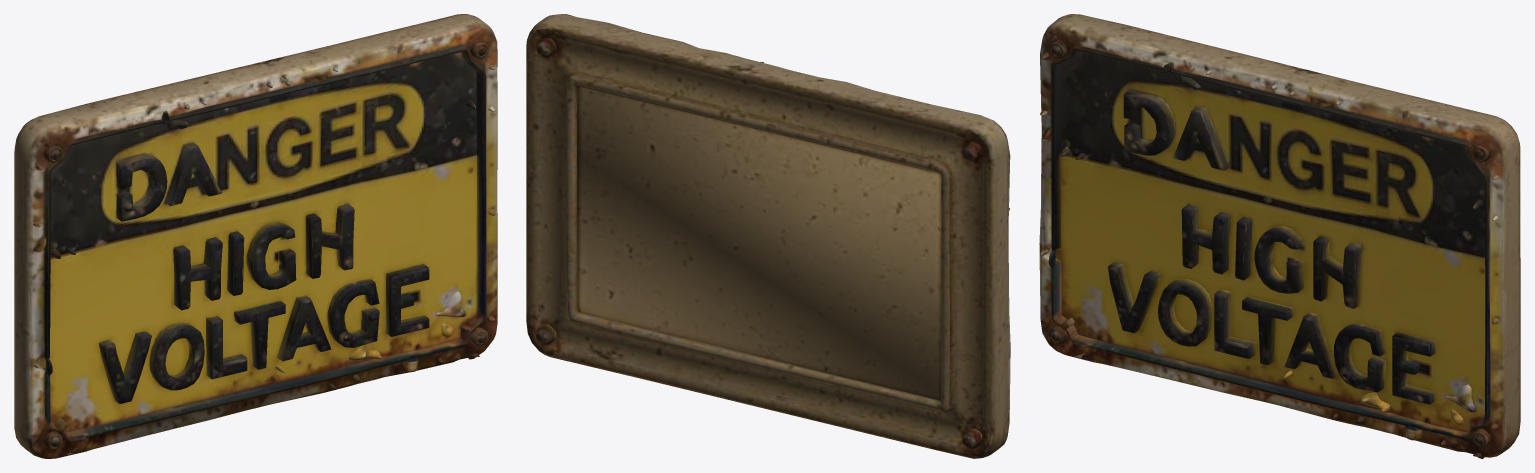
The model's file is prop_warning_sign.glb.
3 views of the same model, side by side, from view 1: azimuth 30°, elevation 25°; view 2: azimuth 150°, elevation 25°; view 3: azimuth 330°, elevation 25° (orthographic).
Parts seen in each view (by area): view 1: tripo_node_1916664c-9ec8-49ab-b858-5b813dceb504; view 2: tripo_node_1916664c-9ec8-49ab-b858-5b813dceb504; view 3: tripo_node_1916664c-9ec8-49ab-b858-5b813dceb504.
Boxes of the visible parts, <box> form: tripo_node_1916664c-9ec8-49ab-b858-5b813dceb504: <box>14,14,497,458</box>; tripo_node_1916664c-9ec8-49ab-b858-5b813dceb504: <box>526,14,1010,458</box>; tripo_node_1916664c-9ec8-49ab-b858-5b813dceb504: <box>1039,14,1520,458</box>.
Bounding box in the file's own units: 0.42 × 0.287 × 0.0449.
1 material, 1 textured.
